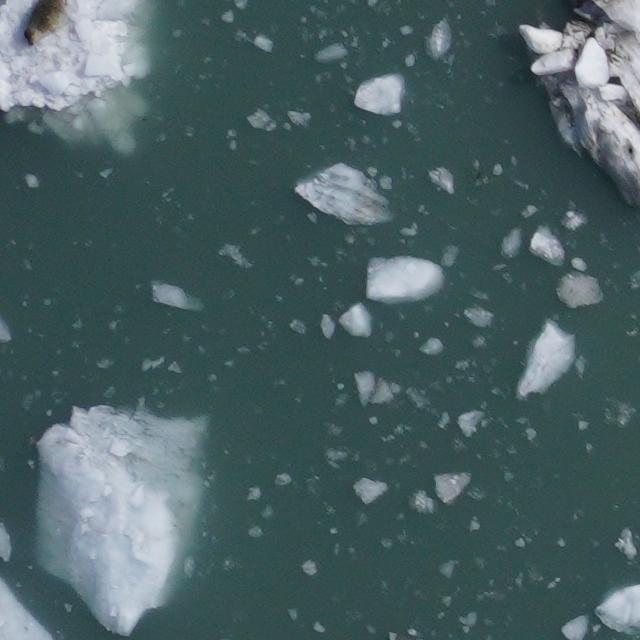seal: (19, 0, 76, 50)
